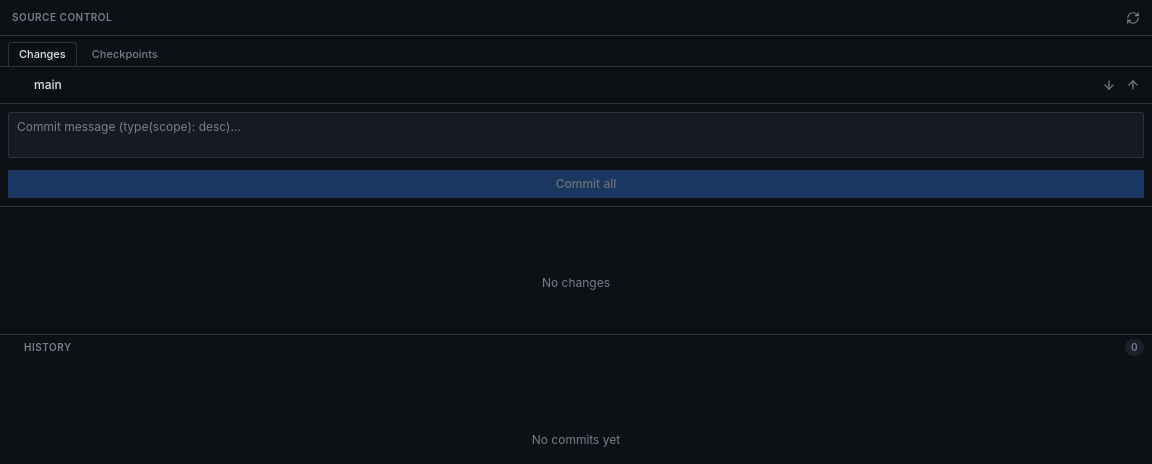
GitPane — BranchPicker › opens dropdown when branch button is clicked
Check: the text "main" is shown, box 34,77 -> 62,93
Click the button "main".
click(48, 85)  # box 8,73 -> 88,97
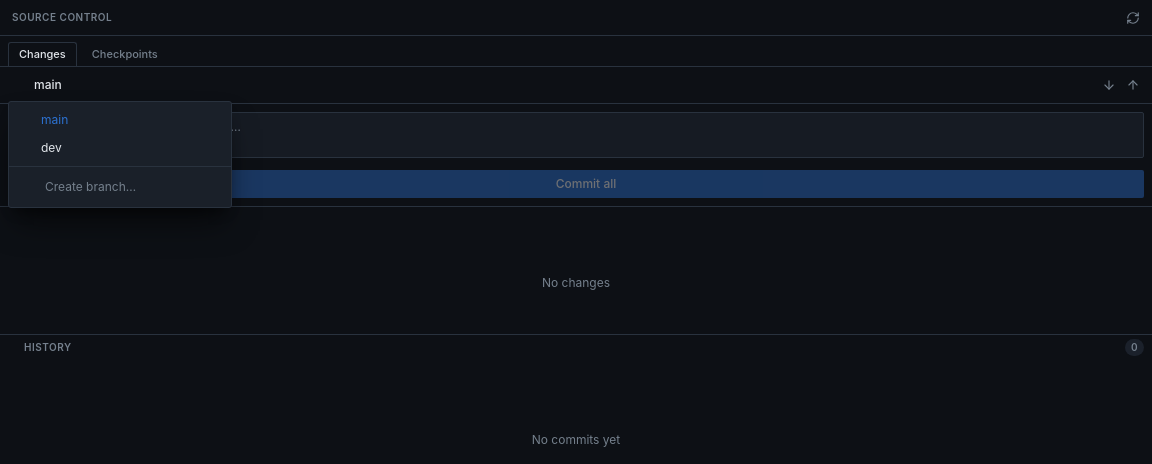
Check: the button "dev" is shown, box 9,134 -> 231,162
